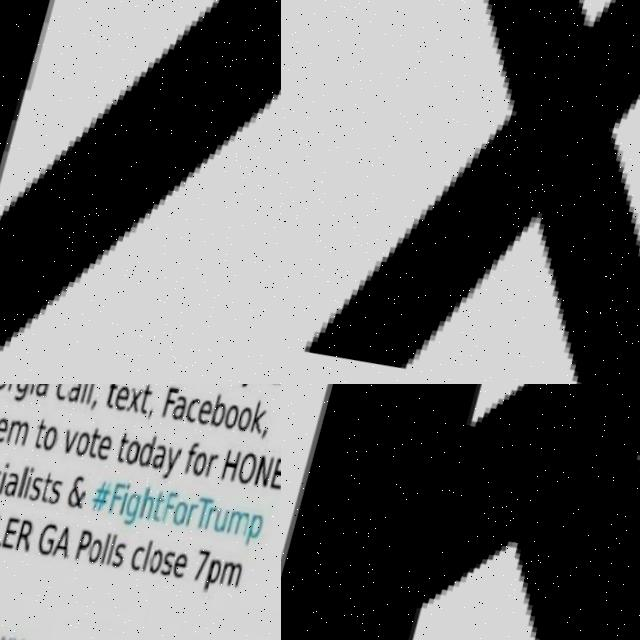7: (195, 552, 216, 585)
A: (56, 527, 79, 561), (4, 471, 25, 500), (173, 398, 191, 427), (153, 446, 171, 474), (66, 384, 86, 406), (34, 384, 54, 400)
B: (211, 397, 233, 431)
C: (133, 545, 153, 577), (186, 400, 204, 427), (55, 384, 73, 404), (0, 468, 5, 496)
D: (139, 434, 162, 471)
E: (4, 517, 27, 553), (97, 436, 117, 465), (174, 555, 194, 584), (198, 402, 218, 430), (114, 387, 134, 415), (271, 458, 281, 495), (0, 417, 13, 445)
F: (163, 387, 183, 424), (111, 483, 130, 519), (164, 493, 182, 527), (186, 445, 202, 478)
G: (38, 522, 63, 560), (124, 493, 147, 530), (14, 384, 35, 404)
H: (223, 453, 244, 486), (142, 489, 161, 524)
I: (1, 463, 13, 498), (26, 468, 37, 500), (122, 486, 133, 518), (29, 384, 43, 398)
K: (281, 384, 640, 640), (252, 404, 271, 438)
L: (109, 533, 122, 571), (104, 534, 117, 569), (0, 515, 13, 549), (146, 541, 157, 577), (20, 467, 32, 499), (81, 384, 93, 406), (88, 384, 99, 406)
M: (230, 511, 256, 542), (7, 420, 34, 449), (223, 562, 250, 591)
N: (256, 459, 278, 492)
O: (237, 453, 264, 492), (43, 426, 63, 455), (192, 454, 213, 481), (224, 407, 244, 434), (126, 442, 146, 469), (237, 410, 257, 436), (75, 433, 95, 459), (89, 540, 109, 566), (150, 551, 170, 577), (174, 503, 193, 528), (0, 384, 14, 392)
P: (248, 516, 271, 552), (207, 561, 228, 596), (79, 531, 98, 565)
R: (19, 521, 40, 555), (207, 456, 222, 482), (189, 505, 203, 530), (208, 509, 222, 533), (9, 384, 22, 392)
S: (115, 543, 132, 571), (164, 553, 181, 579), (31, 477, 47, 503), (52, 481, 67, 507)
T: (196, 498, 217, 533), (154, 492, 172, 525), (35, 419, 51, 451), (118, 433, 134, 465), (89, 429, 105, 460), (43, 473, 58, 506), (141, 386, 156, 418), (105, 384, 122, 412)
U: (215, 510, 235, 536)
V: (0, 0, 281, 384), (62, 432, 82, 458)
X: (299, 0, 640, 384), (127, 388, 147, 417)
Y: (163, 449, 185, 485), (240, 384, 263, 393)
